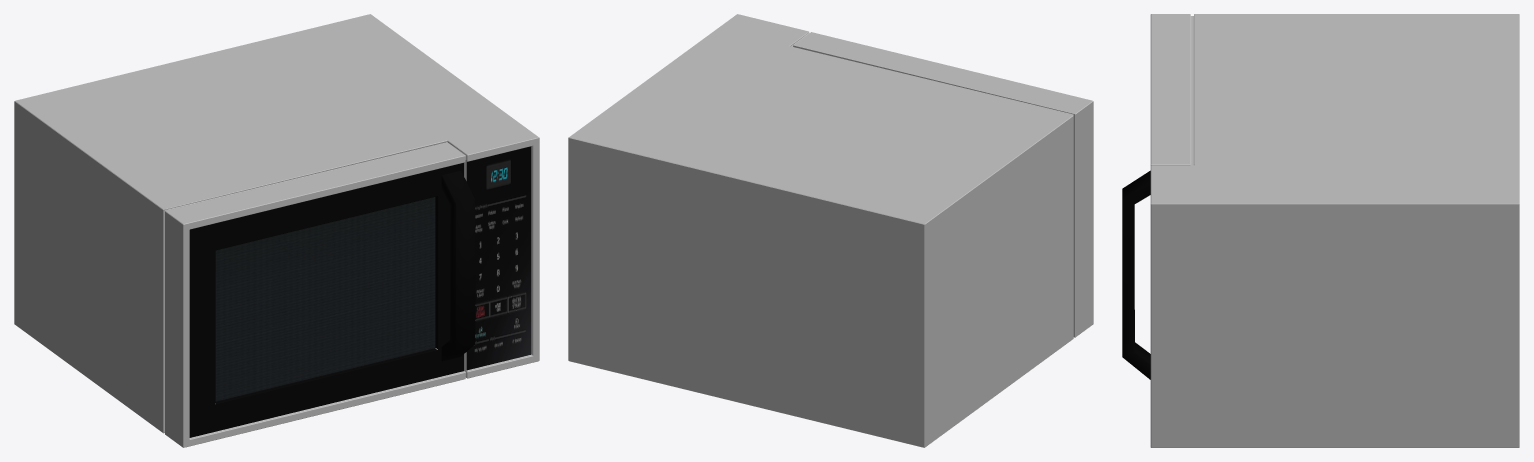
File: Microwave.fbx
3 renders of one model, left to right at view 1: azimuth 30°, elevation 25°; view 2: azimuth 150°, elevation 25°; view 3: azimuth 270°, elevation 25°, orthographic. The views are drawn at different scales.
Visible parts, largest first — view 1: Microwave; view 2: Microwave; view 3: Microwave.
Boxes of the visible parts, box(x1,y1,x2,y2) form: Microwave: box(14, 14, 539, 447); Microwave: box(568, 14, 1093, 447); Microwave: box(1122, 14, 1519, 447).
Bounding box in the file's own units: 47.5 × 28.5 × 42.
